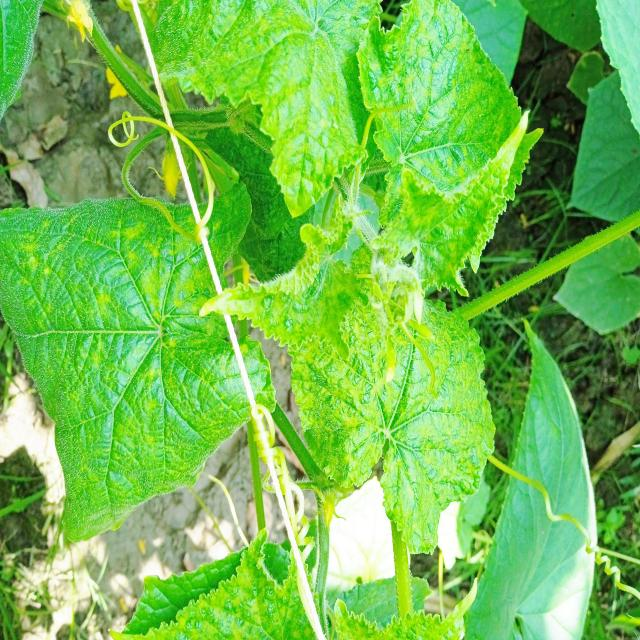Fresh-Leaf: (146, 0, 384, 224), (371, 110, 528, 296), (196, 199, 367, 363)
